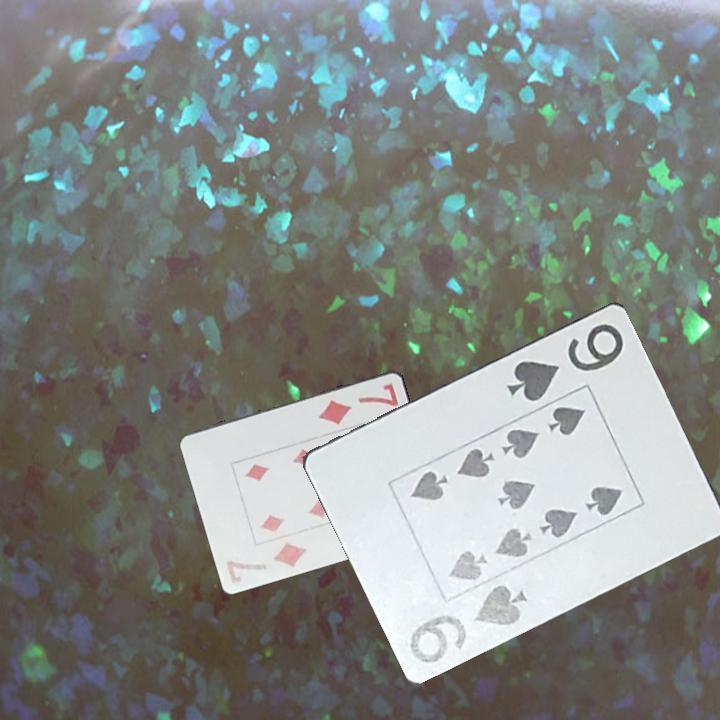7d: (223, 537, 310, 585), (315, 380, 402, 427)
9s: (406, 577, 531, 666), (503, 319, 627, 404)
